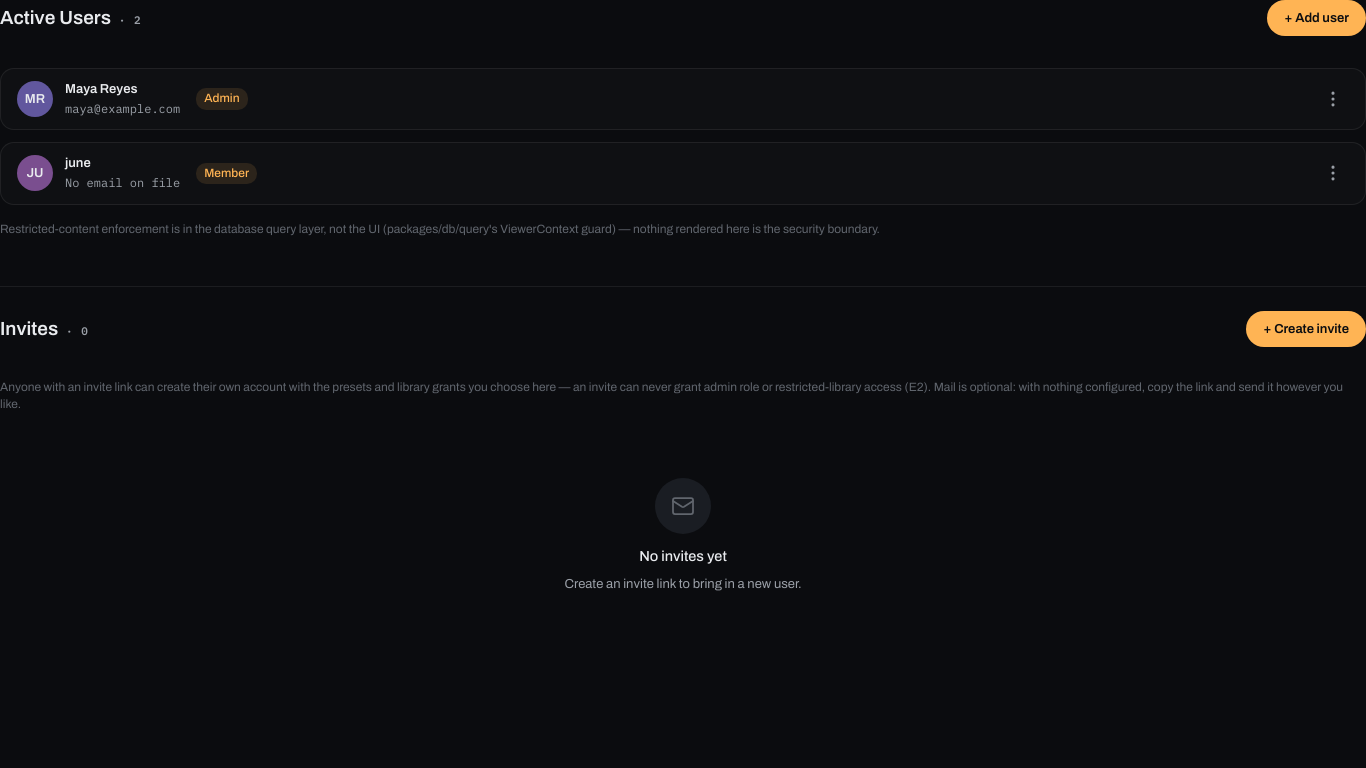
Scenario: UsersSection — Lane D additions › RowMenu offers Reset password, and it opens ResetPasswordDialog naming the user
Step 1. Click the button named "Manage june" → (1333, 173), box [1317,157,1349,189]
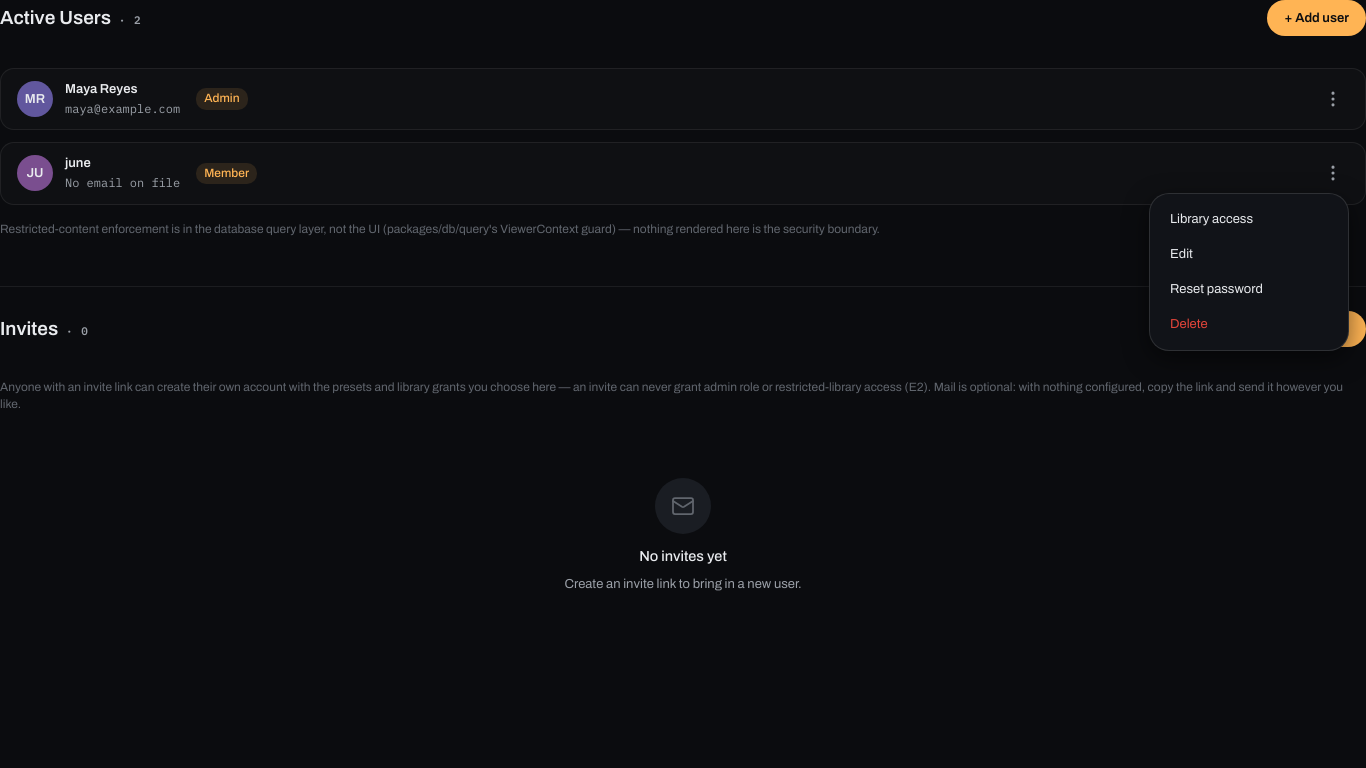
Result: the menu item "Reset password" is shown
Step 2. Click the menu item "Reset password" → (1249, 290), box [1158,272,1340,307]
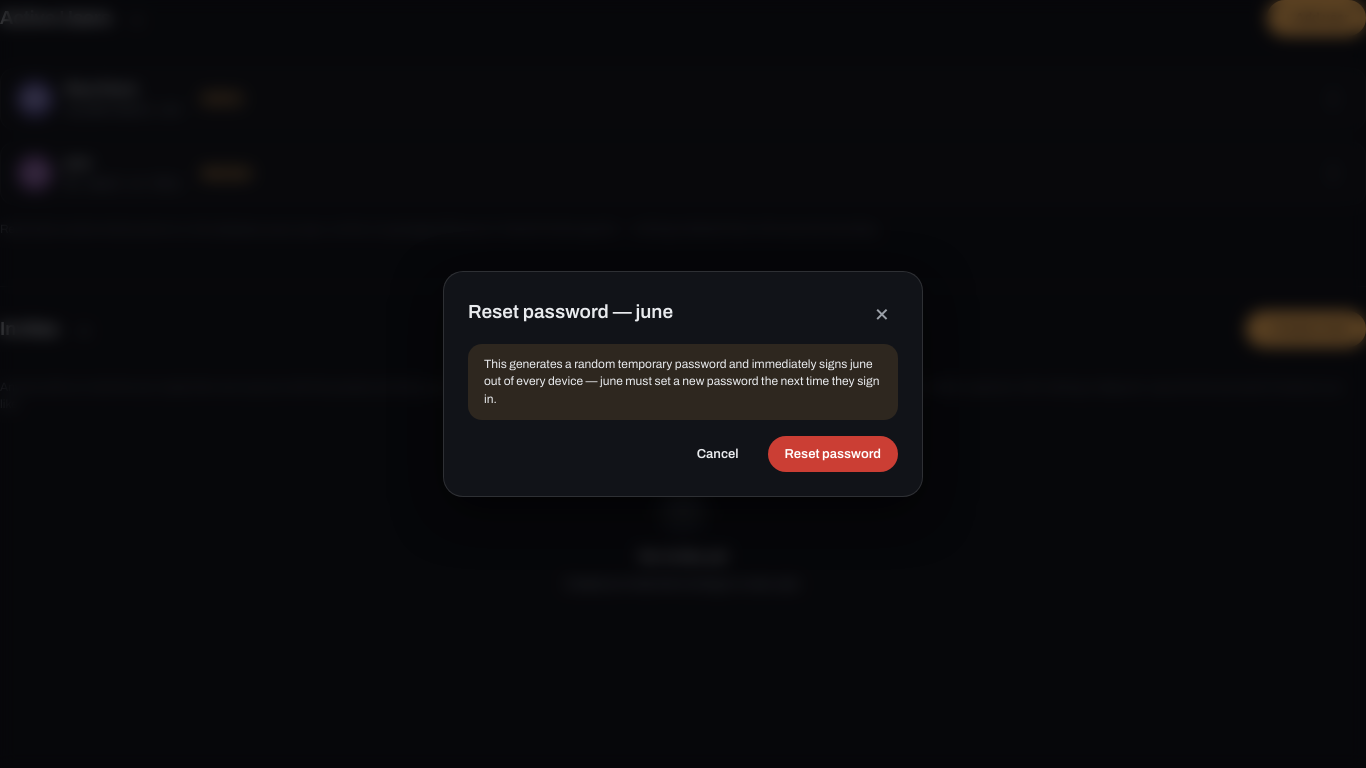
Result: the text "Reset password — june" is shown at [468,298,673,326]
